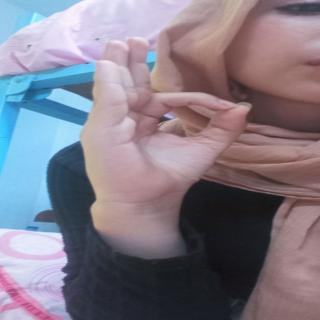Space: (76, 40, 255, 202)
